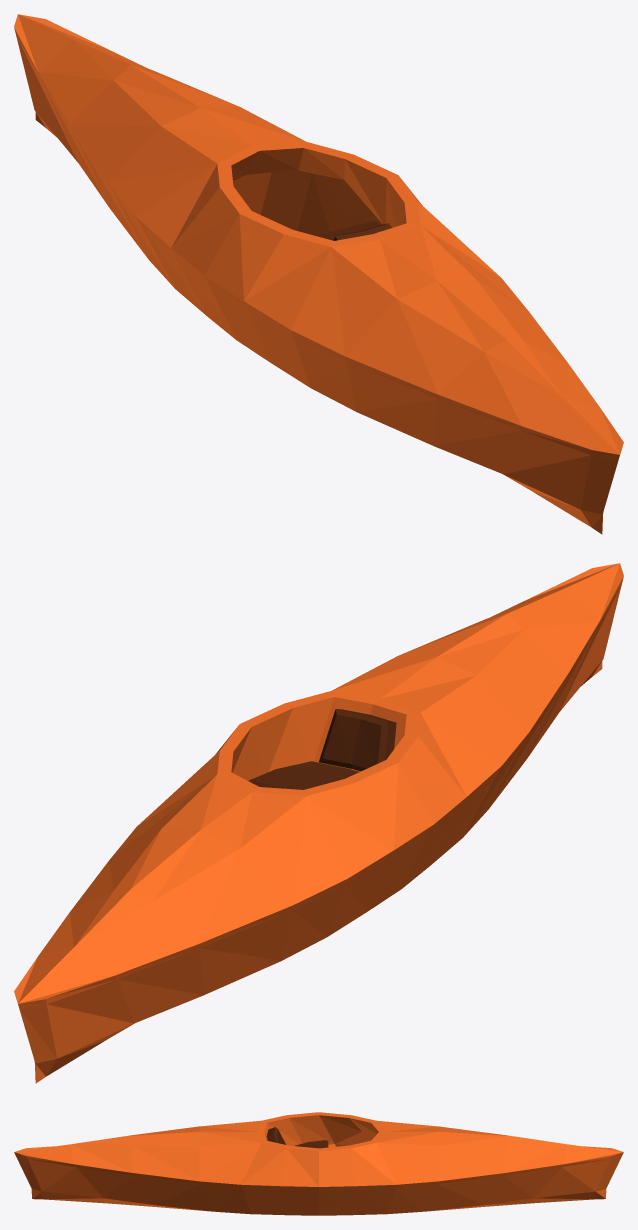
Rendered from 1386 Kayak.obj.
3 views of the same model, one above another, from view 1: azimuth 30°, elevation 25°; view 2: azimuth 150°, elevation 25°; view 3: azimuth 270°, elevation 25° (orthographic). The views are drawn at different scales.
Visible parts, largest first — view 1: kayak; view 2: kayak; view 3: kayak.
Part boxes in pixels (x1,y1,x2,y2): kayak: (14,14,623,534); kayak: (14,563,623,1083); kayak: (14,1112,623,1215).
Size of the model in its own units: 18.81 by 12.66 by 85.41.
Materials: 1 (1 with a texture image).
